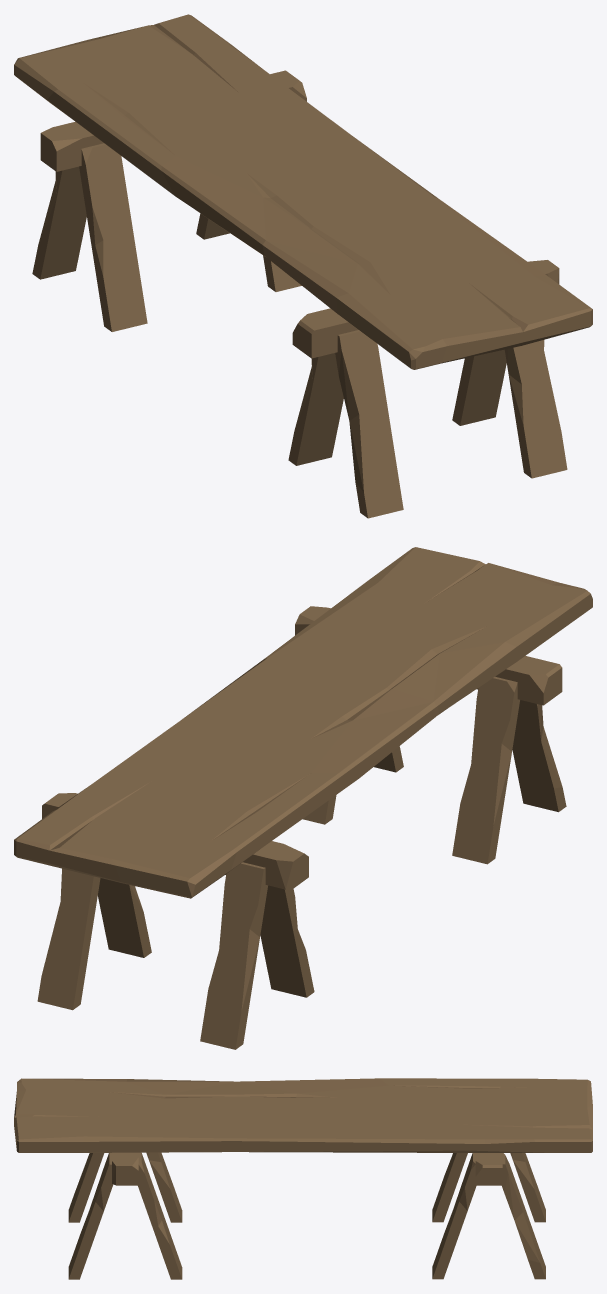
File: SM_Prop_Trestle_Table_01.fbx
The picture shows the model from 3 angles, top to bottom: view 1: azimuth 30°, elevation 25°; view 2: azimuth 150°, elevation 25°; view 3: azimuth 270°, elevation 25°; orthographic projection. The views are drawn at different scales.
Visible parts, largest first — view 1: SM_Prop_Trestle_Table_01; view 2: SM_Prop_Trestle_Table_01; view 3: SM_Prop_Trestle_Table_01.
Part boxes in pixels (x1=…): SM_Prop_Trestle_Table_01: x1=14, y1=14, x2=592, y2=518; SM_Prop_Trestle_Table_01: x1=14, y1=547, x2=592, y2=1049; SM_Prop_Trestle_Table_01: x1=14, y1=1078, x2=592, y2=1279.
Bounding box in the file's own units: 110 × 80 × 309.
